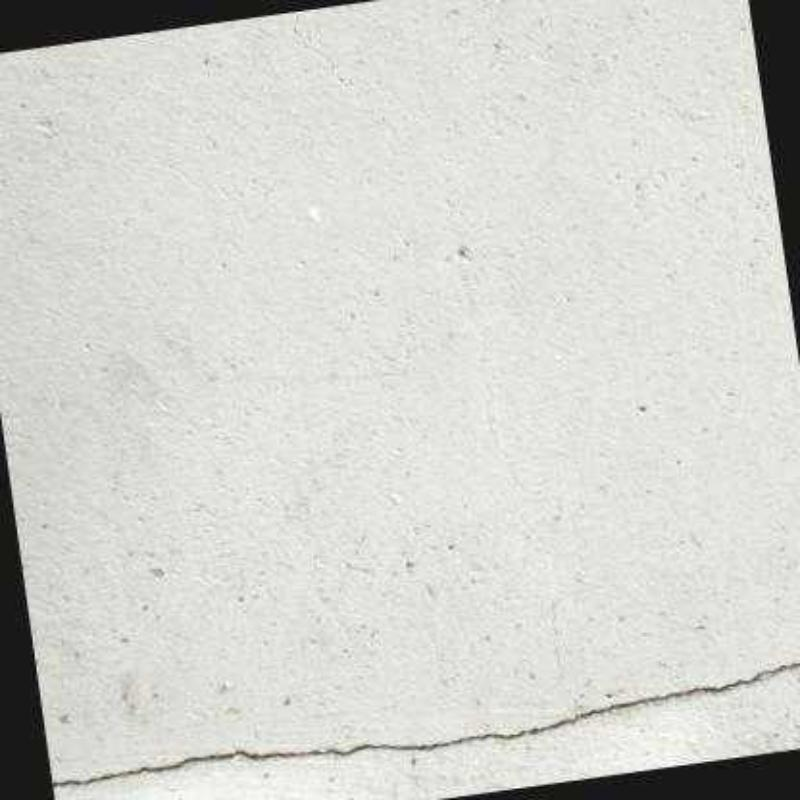pothole: (50, 659, 800, 789)
